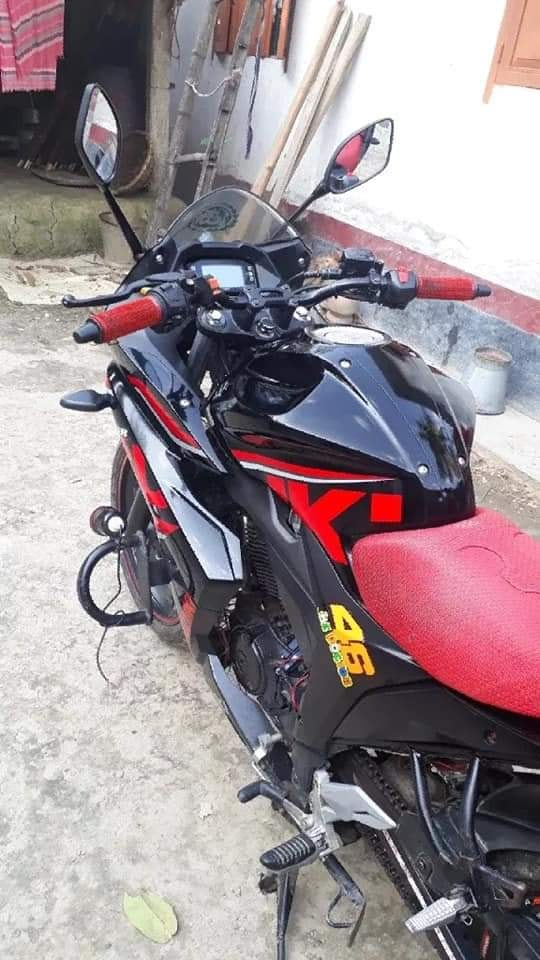bike: (58, 83, 540, 960)
